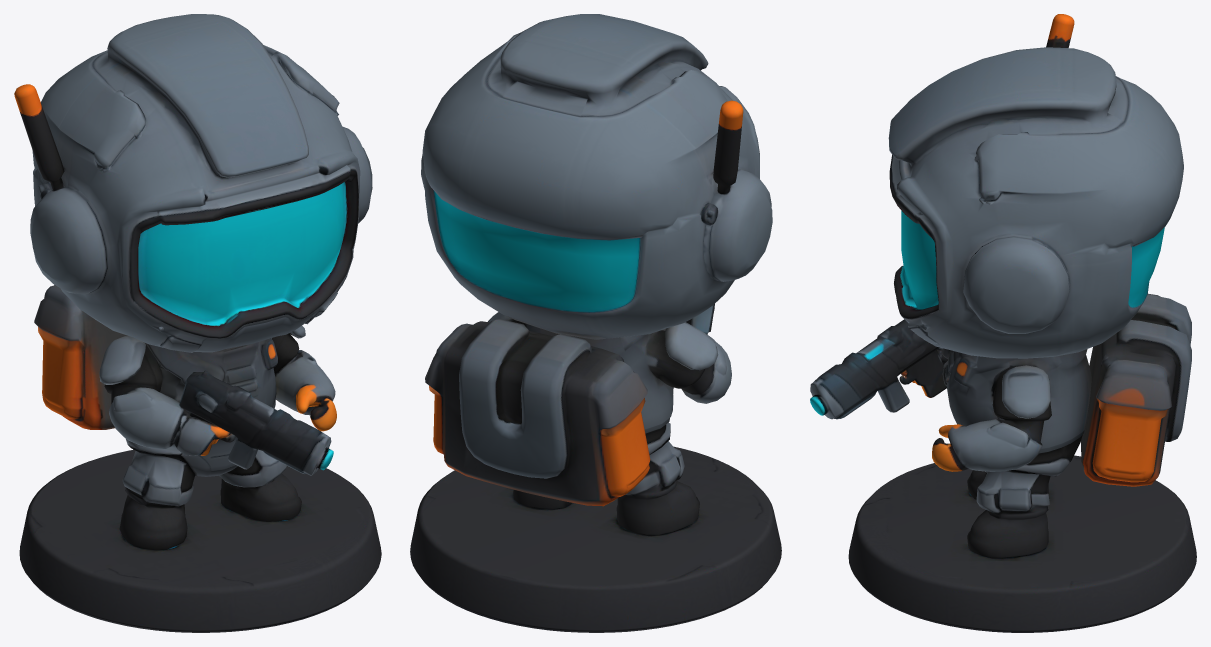
The model's file is sing-pawn.glb.
3 renders of one model, left to right at view 1: azimuth 30°, elevation 25°; view 2: azimuth 150°, elevation 25°; view 3: azimuth 270°, elevation 25°, orthographic. The views are drawn at different scales.
Visible parts, largest first — view 1: tripo_node_b420881e-c2c9-4a58-b8c5-ae821e4e9a64; view 2: tripo_node_b420881e-c2c9-4a58-b8c5-ae821e4e9a64; view 3: tripo_node_b420881e-c2c9-4a58-b8c5-ae821e4e9a64.
Part boxes in pixels (x1=…): tripo_node_b420881e-c2c9-4a58-b8c5-ae821e4e9a64: x1=14, y1=14, x2=381, y2=632; tripo_node_b420881e-c2c9-4a58-b8c5-ae821e4e9a64: x1=410, y1=14, x2=781, y2=632; tripo_node_b420881e-c2c9-4a58-b8c5-ae821e4e9a64: x1=810, y1=14, x2=1196, y2=632.
Size of the model in its own units: 0.6528 by 0.9995 by 0.7104.
Materials: 1 (1 with a texture image).
